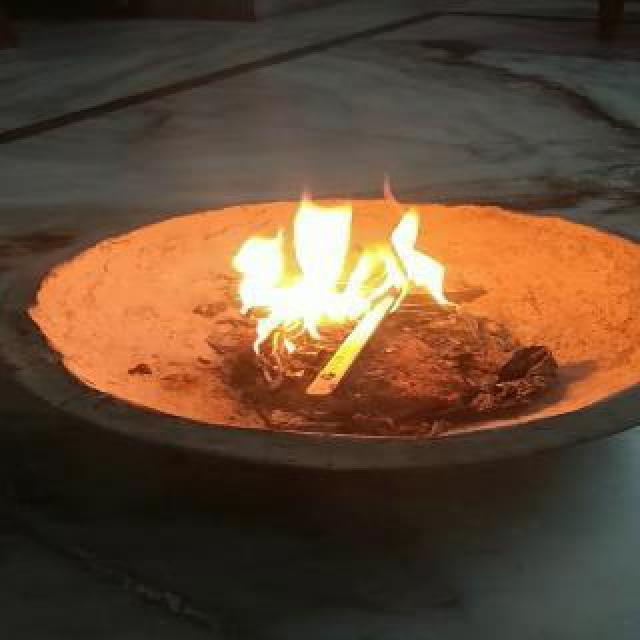zfire: (220, 184, 446, 358)
